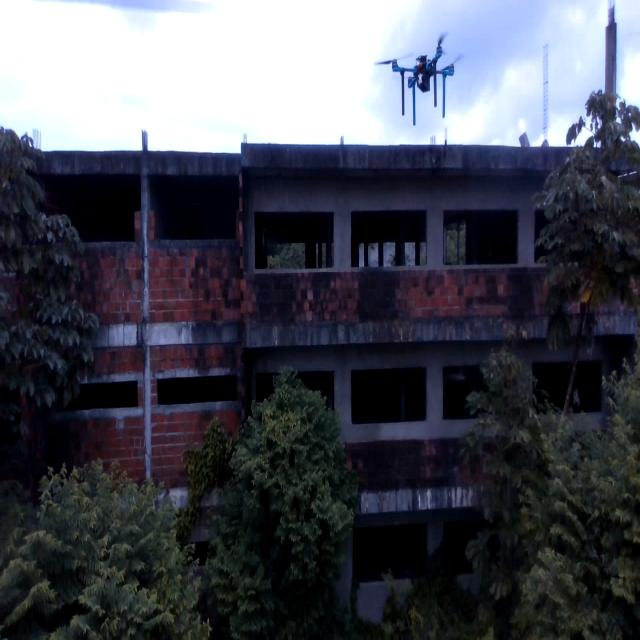-uav-: (365, 31, 479, 145)
